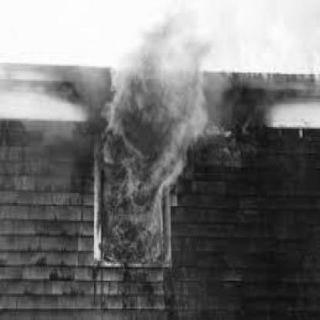Fire: (95, 4, 208, 267)
